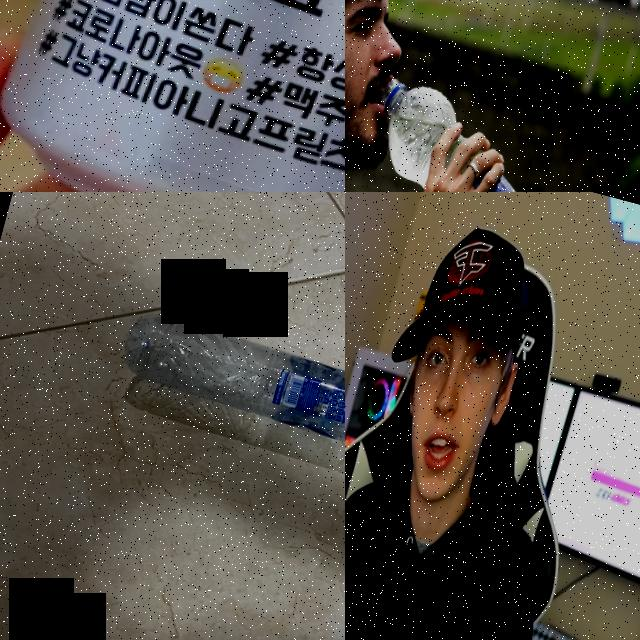bottle: (114, 302, 345, 468), (345, 66, 583, 192)
can: (0, 0, 345, 192)
